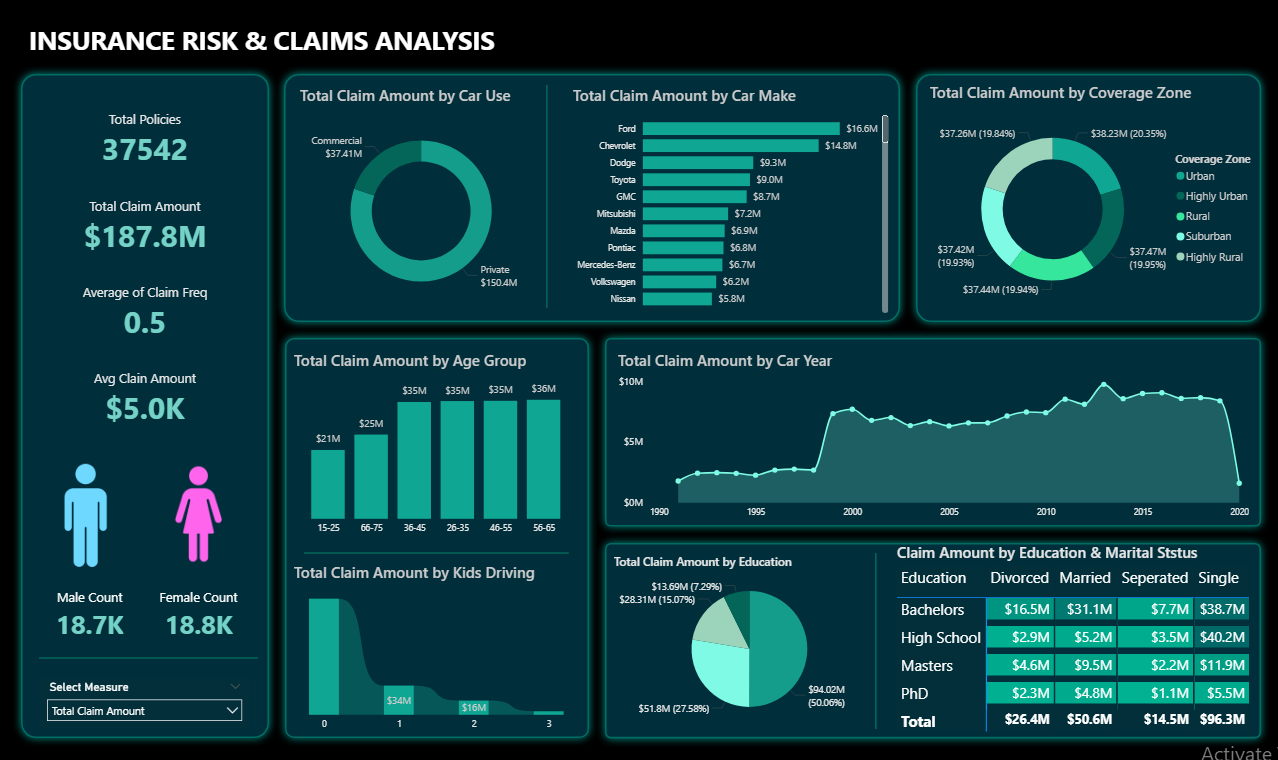

This screenshot's page, from the dashboard's own definition file:
{"tool":"powerbi","page":{"name":"Page 1","canvas":[1600,950],"ordinal":0},"visuals":[{"type":"textbox","box":[32.9,22.9,627.1,55.7],"z":0},{"type":"shape","box":[17.1,82.9,330,850],"z":1000},{"type":"cardVisual","fields":{"Data":["_Measures.Total Policies","_Measures.Total Claim Amount","Avg(insurance_data_car.Claim Freq)","_Measures.Avg Clain Amount"]},"box":[47.1,105.7,270,460],"z":2000},{"type":"cardVisual","fields":{"Data":["_Measures.Male Count","_Measures.Female Count"]},"box":[32.9,712.9,298.6,110],"z":3000},{"type":"image","box":[44.3,554.3,128.6,181.4],"z":4000},{"type":"image","box":[174.3,542.9,151.4,200],"z":5000},{"type":"slicer","fields":{"Values":["Select Measure.Select Measure"]},"box":[50,845.7,264.3,65.7],"z":5001},{"type":"shape","box":[345.7,82.9,790,330],"z":5002},{"type":"donutChart","fields":{"Category":["insurance_data_car.Car Use"],"Y":["_Measures.Total Claim Amount"]},"box":[371.4,105.7,312.9,290],"z":5003},{"type":"clusteredBarChart","fields":{"Category":["insurance_data_car.Car Make"],"Y":["_Measures.Total Claim Amount"]},"box":[712.9,105.7,404.3,290],"z":5004},{"type":"shape","box":[1135.7,82.9,451.4,330],"z":5005},{"type":"donutChart","fields":{"Category":["insurance_data_car.Coverage Zone"],"Y":["_Measures.Total Claim Amount"]},"box":[1158.6,102.9,428.6,292.9],"z":5006},{"type":"shape","box":[347.1,412.9,400,520],"z":5007},{"type":"clusteredColumnChart","fields":{"Category":["insurance_data_car.Age Group"],"Y":["_Measures.Total Claim Amount"]},"box":[364.3,437.1,365.7,240],"z":5008},{"type":"ribbonChart","fields":{"Category":["insurance_data_car.Kids Driving"],"Y":["_Measures.Total Claim Amount"]},"box":[364.3,702.9,365.7,220],"z":5009},{"type":"shape","box":[747.1,412.9,840,255.7],"z":5010},{"type":"areaChart","fields":{"Category":["insurance_data_car.Car Year"],"Y":["_Measures.Total Claim Amount"]},"box":[768.6,437.1,798.6,220],"z":5011},{"type":"shape","box":[747.1,668.6,840,264.3],"z":5012},{"type":"pieChart","fields":{"Category":["insurance_data_car.Education"],"Y":["_Measures.Total Claim Amount"]},"box":[764.3,691.4,348.6,220],"z":5013},{"type":"pivotTable","title":"Claim Amount by Education & Marital Ststus","fields":{"Rows":["insurance_data_car.Education"],"Columns":["insurance_data_car.Marital Status"],"Values":["_Measures.Total Claim Amount"]},"box":[1117.1,677.1,450,255.7],"z":5014},{"type":"shape","box":[601.4,105.7,167.1,278.6],"z":5015},{"type":"shape","box":[1012.9,691.4,167.1,220],"z":5016},{"type":"shape","box":[381.4,581.4,331.4,220],"z":5017},{"type":"shape","box":[50,787.1,274.3,70],"z":5018}]}

Visuals, with their boxes in screenshot pixels (x1, y1, x2, y2), scaled from the page's 1600x950 canvas onto the 1278x760 screenshot:
textbox: box(26, 18, 527, 63)
shape: box(14, 66, 277, 746)
cardVisual - _Measures.Total Policies x _Measures.Total Claim Amount: box(38, 85, 253, 453)
cardVisual - _Measures.Male Count x _Measures.Female Count: box(26, 570, 265, 658)
image: box(35, 443, 138, 589)
image: box(139, 434, 260, 594)
slicer - Select Measure.Select Measure: box(40, 677, 251, 729)
shape: box(276, 66, 907, 330)
donutChart - insurance_data_car.Car Use x _Measures.Total Claim Amount: box(297, 85, 547, 317)
clusteredBarChart - insurance_data_car.Car Make x _Measures.Total Claim Amount: box(569, 85, 892, 317)
shape: box(907, 66, 1268, 330)
donutChart - insurance_data_car.Coverage Zone x _Measures.Total Claim Amount: box(925, 82, 1268, 317)
shape: box(277, 330, 597, 746)
clusteredColumnChart - insurance_data_car.Age Group x _Measures.Total Claim Amount: box(291, 350, 583, 542)
ribbonChart - insurance_data_car.Kids Driving x _Measures.Total Claim Amount: box(291, 562, 583, 738)
shape: box(597, 330, 1268, 535)
areaChart - insurance_data_car.Car Year x _Measures.Total Claim Amount: box(614, 350, 1252, 526)
shape: box(597, 535, 1268, 746)
pieChart - insurance_data_car.Education x _Measures.Total Claim Amount: box(610, 553, 889, 729)
"Claim Amount by Education & Marital Ststus" pivotTable: box(892, 542, 1252, 746)
shape: box(480, 85, 614, 307)
shape: box(809, 553, 943, 729)
shape: box(305, 465, 569, 641)
shape: box(40, 630, 259, 686)
